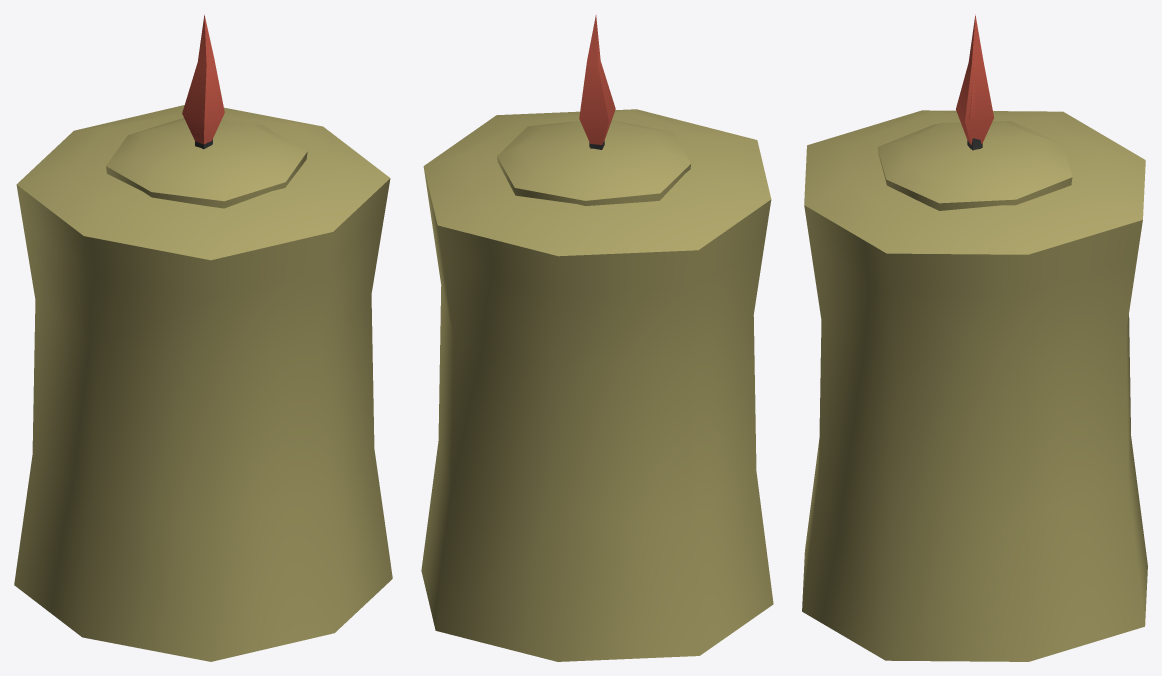
The model's file is Candles_2.glb.
3 views of the same model, side by side, from view 1: azimuth 30°, elevation 25°; view 2: azimuth 150°, elevation 25°; view 3: azimuth 270°, elevation 25° (orthographic).
Visible parts, largest first — view 1: Candles_1.002, Candles_1.003; view 2: Candles_1.002, Candles_1.003; view 3: Candles_1.002, Candles_1.003.
Boxes of the visible parts, x1,y1,x2,y2 form: Candles_1.002: (14, 14, 392, 661); Candles_1.003: (106, 118, 307, 208); Candles_1.002: (421, 15, 773, 661); Candles_1.003: (497, 120, 691, 205); Candles_1.002: (802, 14, 1147, 661); Candles_1.003: (877, 77, 1072, 210).
Size of the model in its own units: 0.3304 by 0.6113 by 0.3304.
